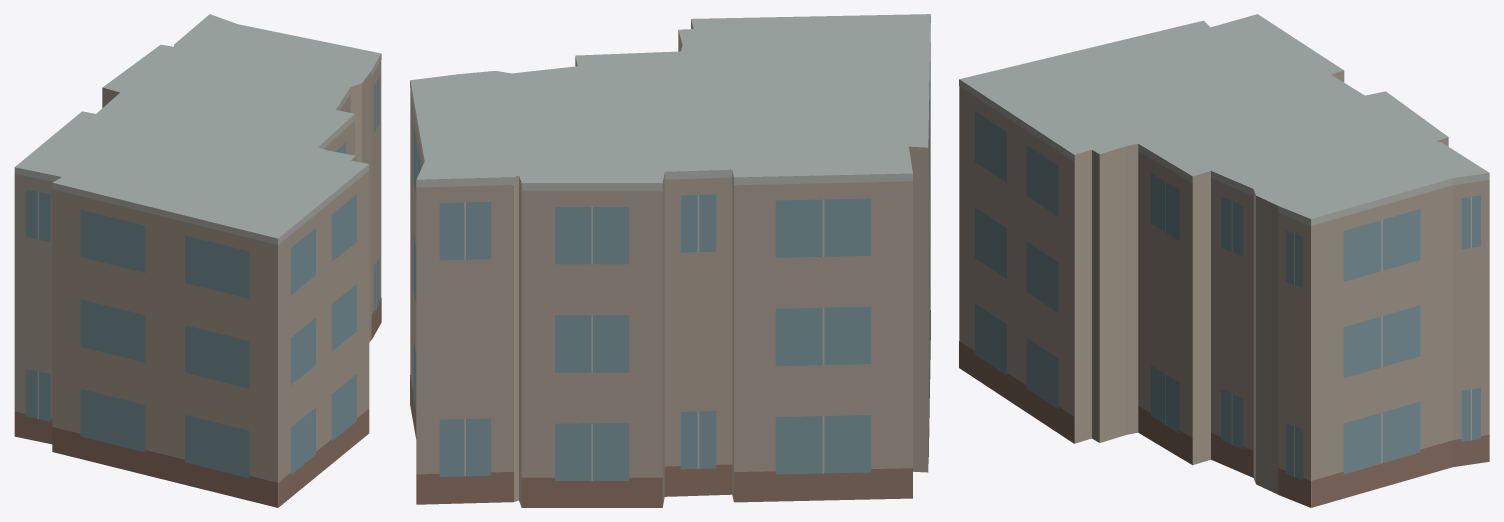
The model's file is survey-upis-32952849.glb.
3 renders of one model, left to right at view 1: azimuth 30°, elevation 25°; view 2: azimuth 150°, elevation 25°; view 3: azimuth 270°, elevation 25°, orthographic. The views are drawn at different scales.
Parts seen in each view (by area): view 1: survey-upis-32952849.tmp; view 2: survey-upis-32952849.tmp; view 3: survey-upis-32952849.tmp.
Boxes of the visible parts, x1,y1,x2,y2 form: survey-upis-32952849.tmp: (14, 14, 381, 507); survey-upis-32952849.tmp: (410, 14, 930, 507); survey-upis-32952849.tmp: (959, 14, 1489, 507).
Size of the model in its own units: 15.38 by 10.1 by 16.82.
